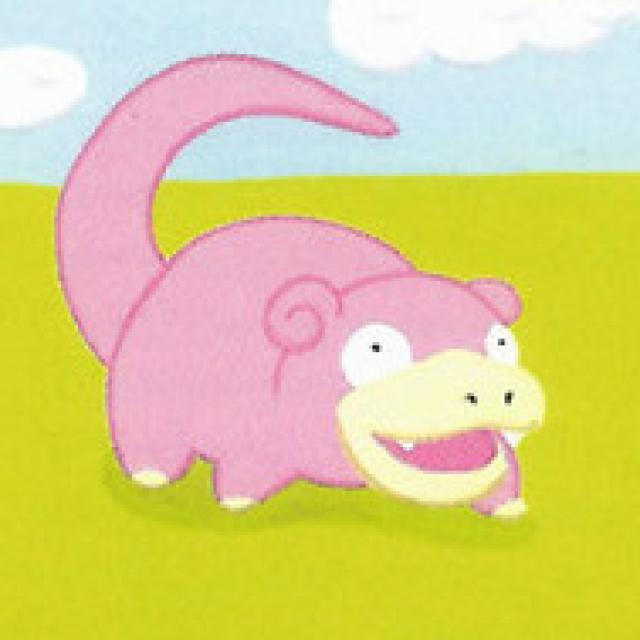Slowpoke: (104, 211, 549, 520)
